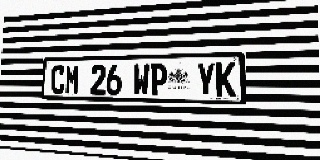2: (90, 64, 106, 95)
6: (106, 64, 122, 95)
C: (51, 65, 65, 94)
K: (216, 62, 236, 97)
M: (65, 65, 80, 95)
P: (150, 63, 167, 96)
W: (133, 64, 150, 96)
Y: (196, 62, 215, 97)
